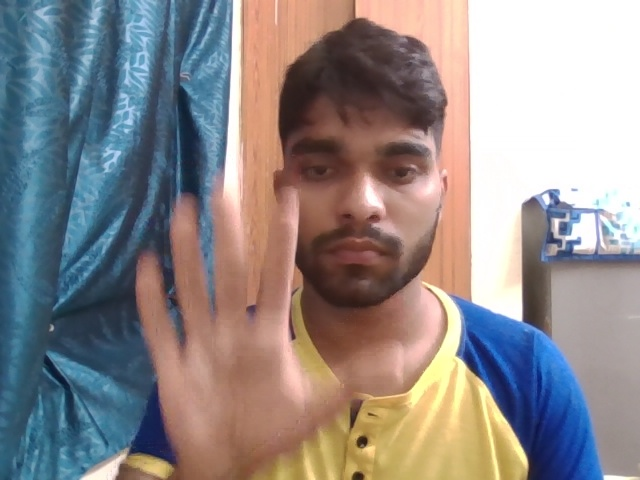Hello: (124, 168, 406, 471)
